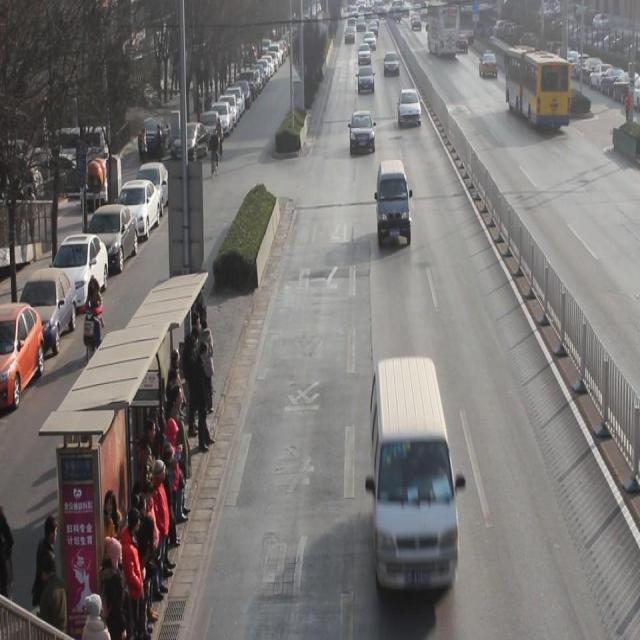car: (350, 109, 376, 154), (398, 86, 421, 129), (358, 64, 376, 95), (479, 50, 498, 79), (384, 50, 399, 76)
truck: (371, 356, 458, 598), (377, 158, 411, 250)
van: (503, 48, 567, 131)
